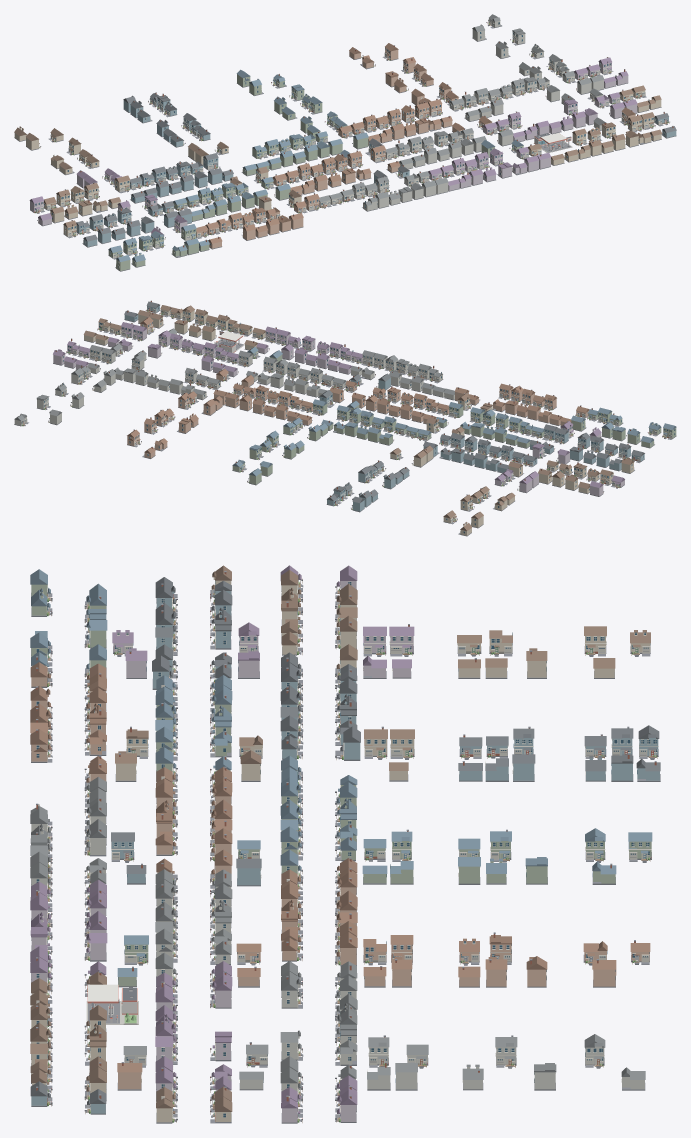
File: northgate.glb
3 views of the same model, one above another, from view 1: azimuth 30°, elevation 25°; view 2: azimuth 150°, elevation 25°; view 3: azimuth 270°, elevation 25° (orthographic). The views are drawn at different scales.
Parts seen in each view (by area): view 1: gas_station.001; view 2: gas_station.001; view 3: gas_station.001.
Boxes of the visible parts, x1,y1,x2,y2 form: gas_station.001: (533,133,572,152); gas_station.001: (214,331,244,352); gas_station.001: (86,984,138,1024).
Bounding box in the file's own units: 368 × 8.37 × 181.
